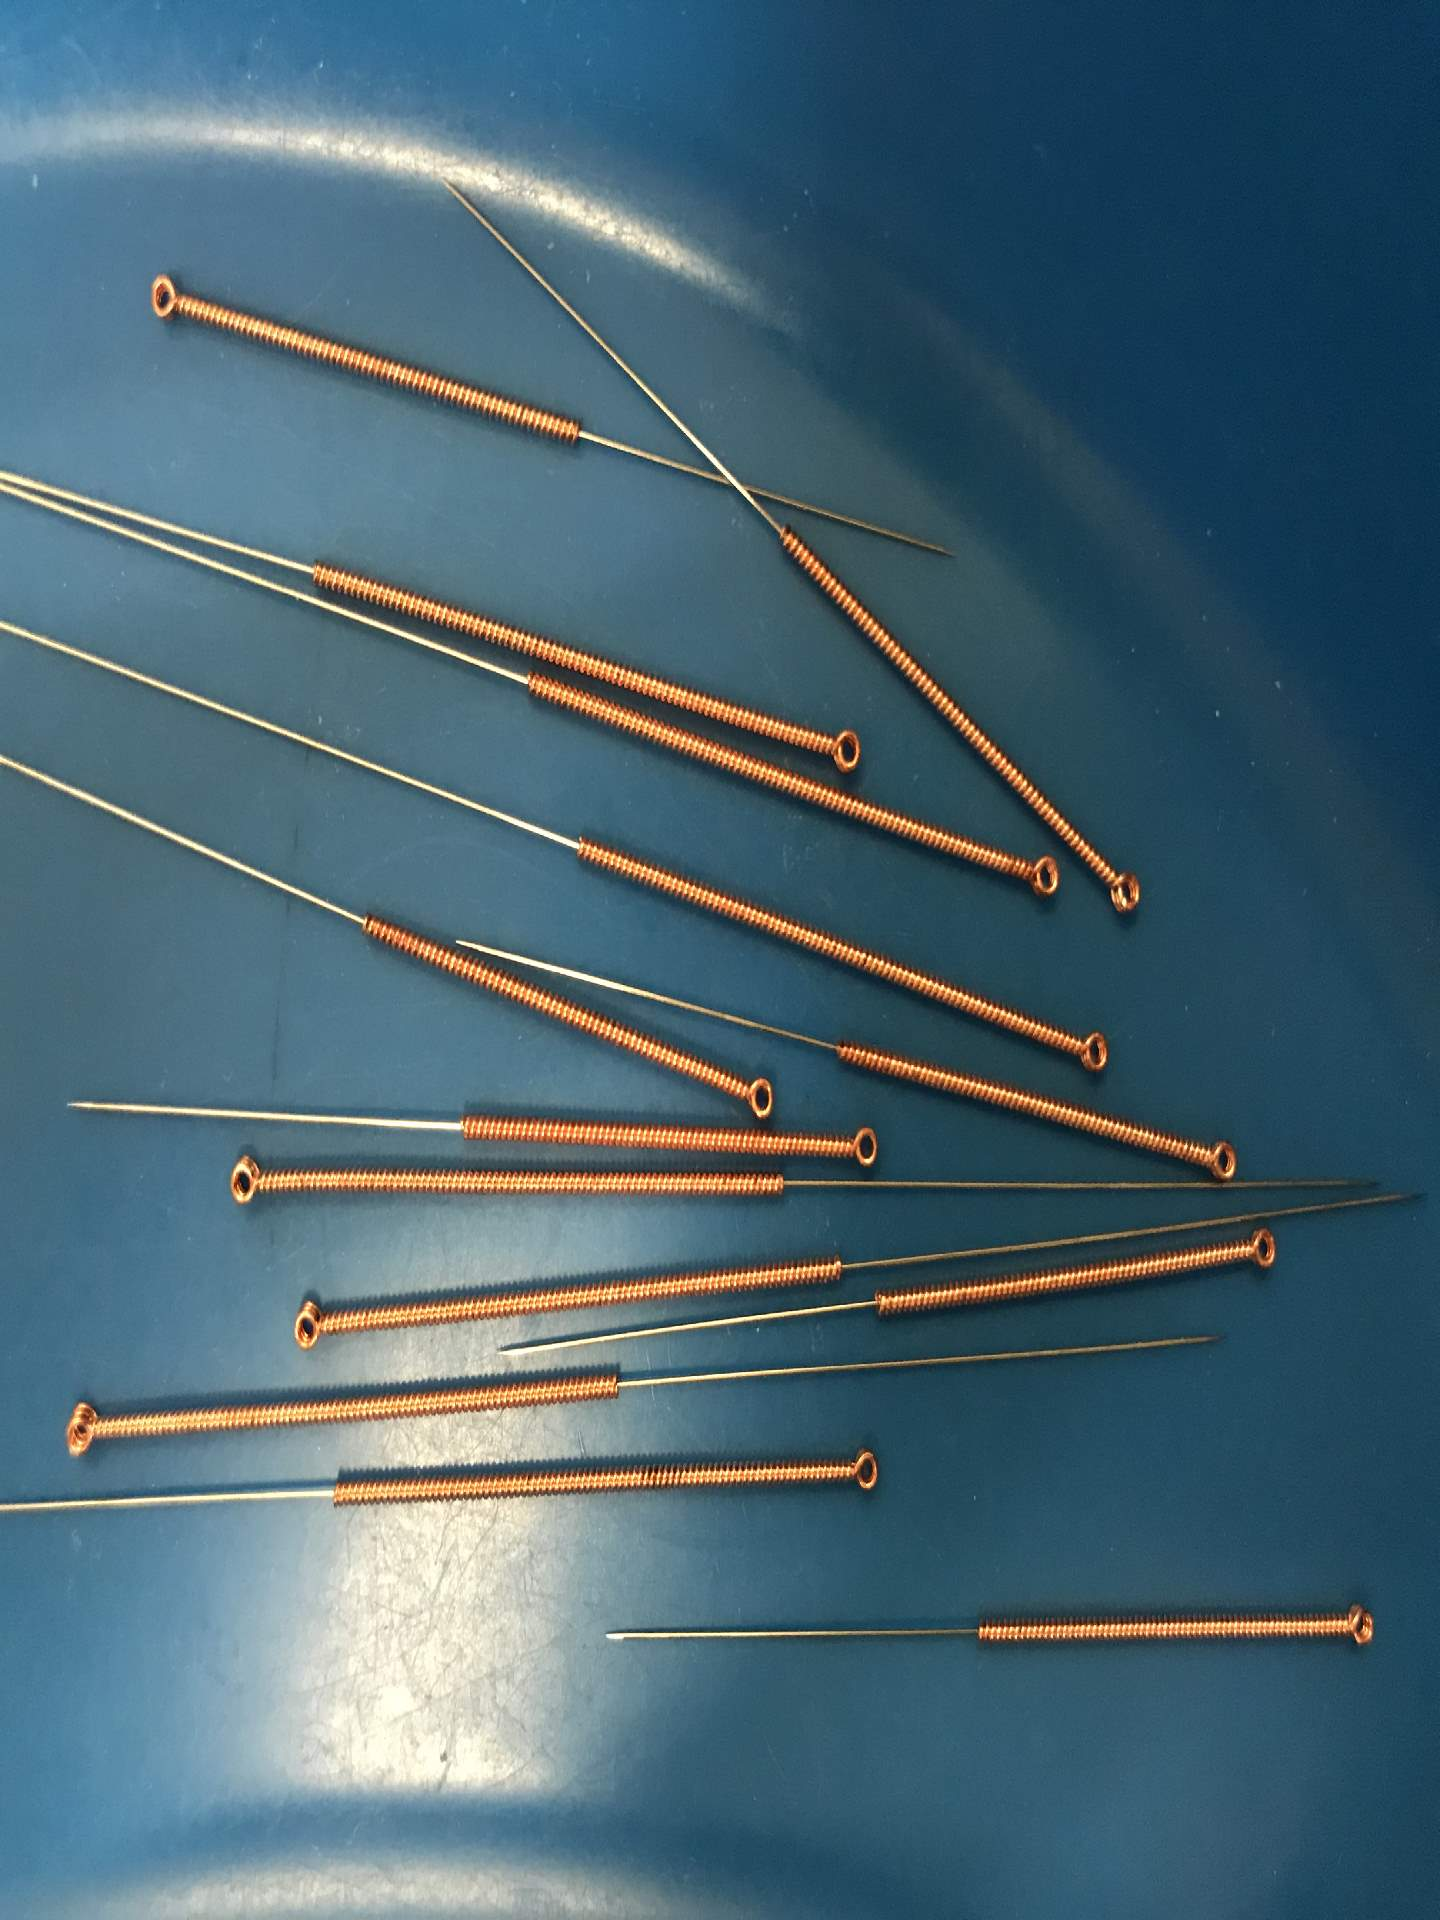needle: (44, 1389, 119, 1469), (823, 1435, 898, 1512), (213, 1143, 283, 1222), (1094, 851, 1153, 937), (275, 1287, 337, 1364), (136, 263, 197, 339), (1056, 1016, 1121, 1085), (1322, 1589, 1386, 1658), (1181, 1123, 1246, 1190), (725, 1058, 787, 1125), (1010, 844, 1071, 912), (812, 715, 873, 783), (1227, 1220, 1286, 1284), (827, 1119, 888, 1178)
